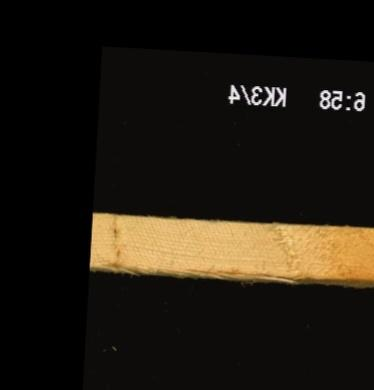small_knot: (91, 215, 134, 265)
